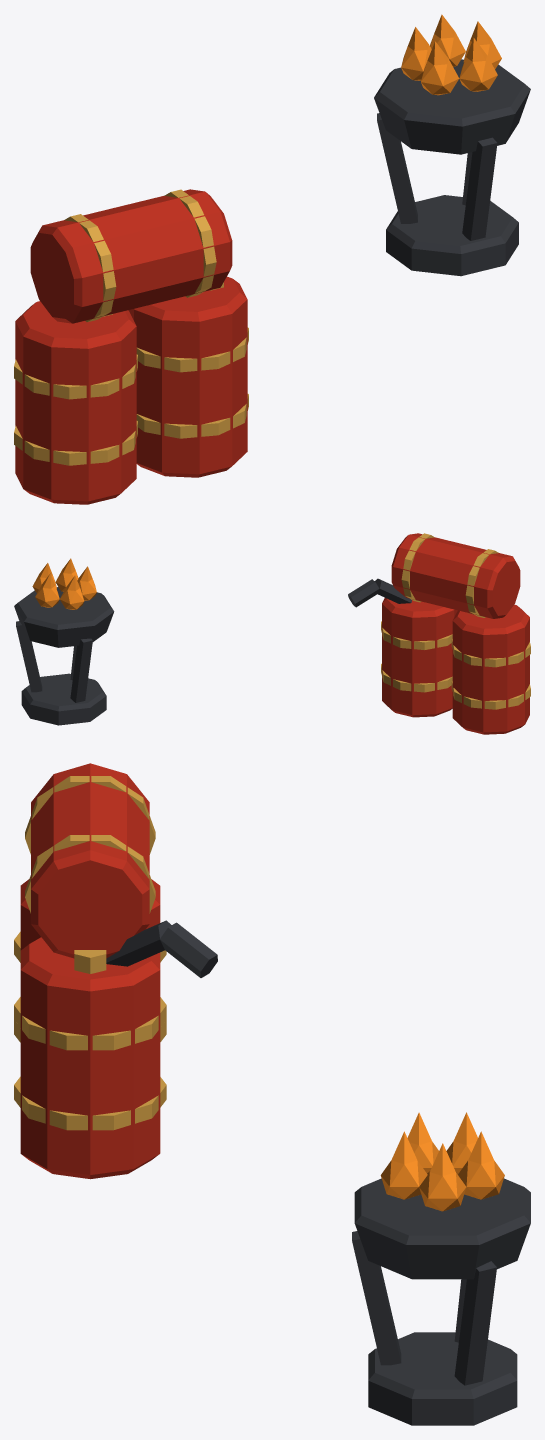
File: FlameDressA1.obj
3 views of the same model, one above another, from view 1: azimuth 30°, elevation 25°; view 2: azimuth 150°, elevation 25°; view 3: azimuth 270°, elevation 25° (orthographic). The views are drawn at different scales.
Parts seen in each view (by area): view 1: FlameDressA1; view 2: FlameDressA1; view 3: FlameDressA1.
Boxes of the visible parts, x1,y1,x2,y2 form: FlameDressA1: (14, 14, 530, 504); FlameDressA1: (14, 533, 530, 734); FlameDressA1: (14, 763, 530, 1425).
Bounding box in the file's own units: 1.21 × 0.47 × 0.7041.
